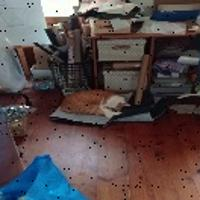asleep: (60, 89, 130, 116)
